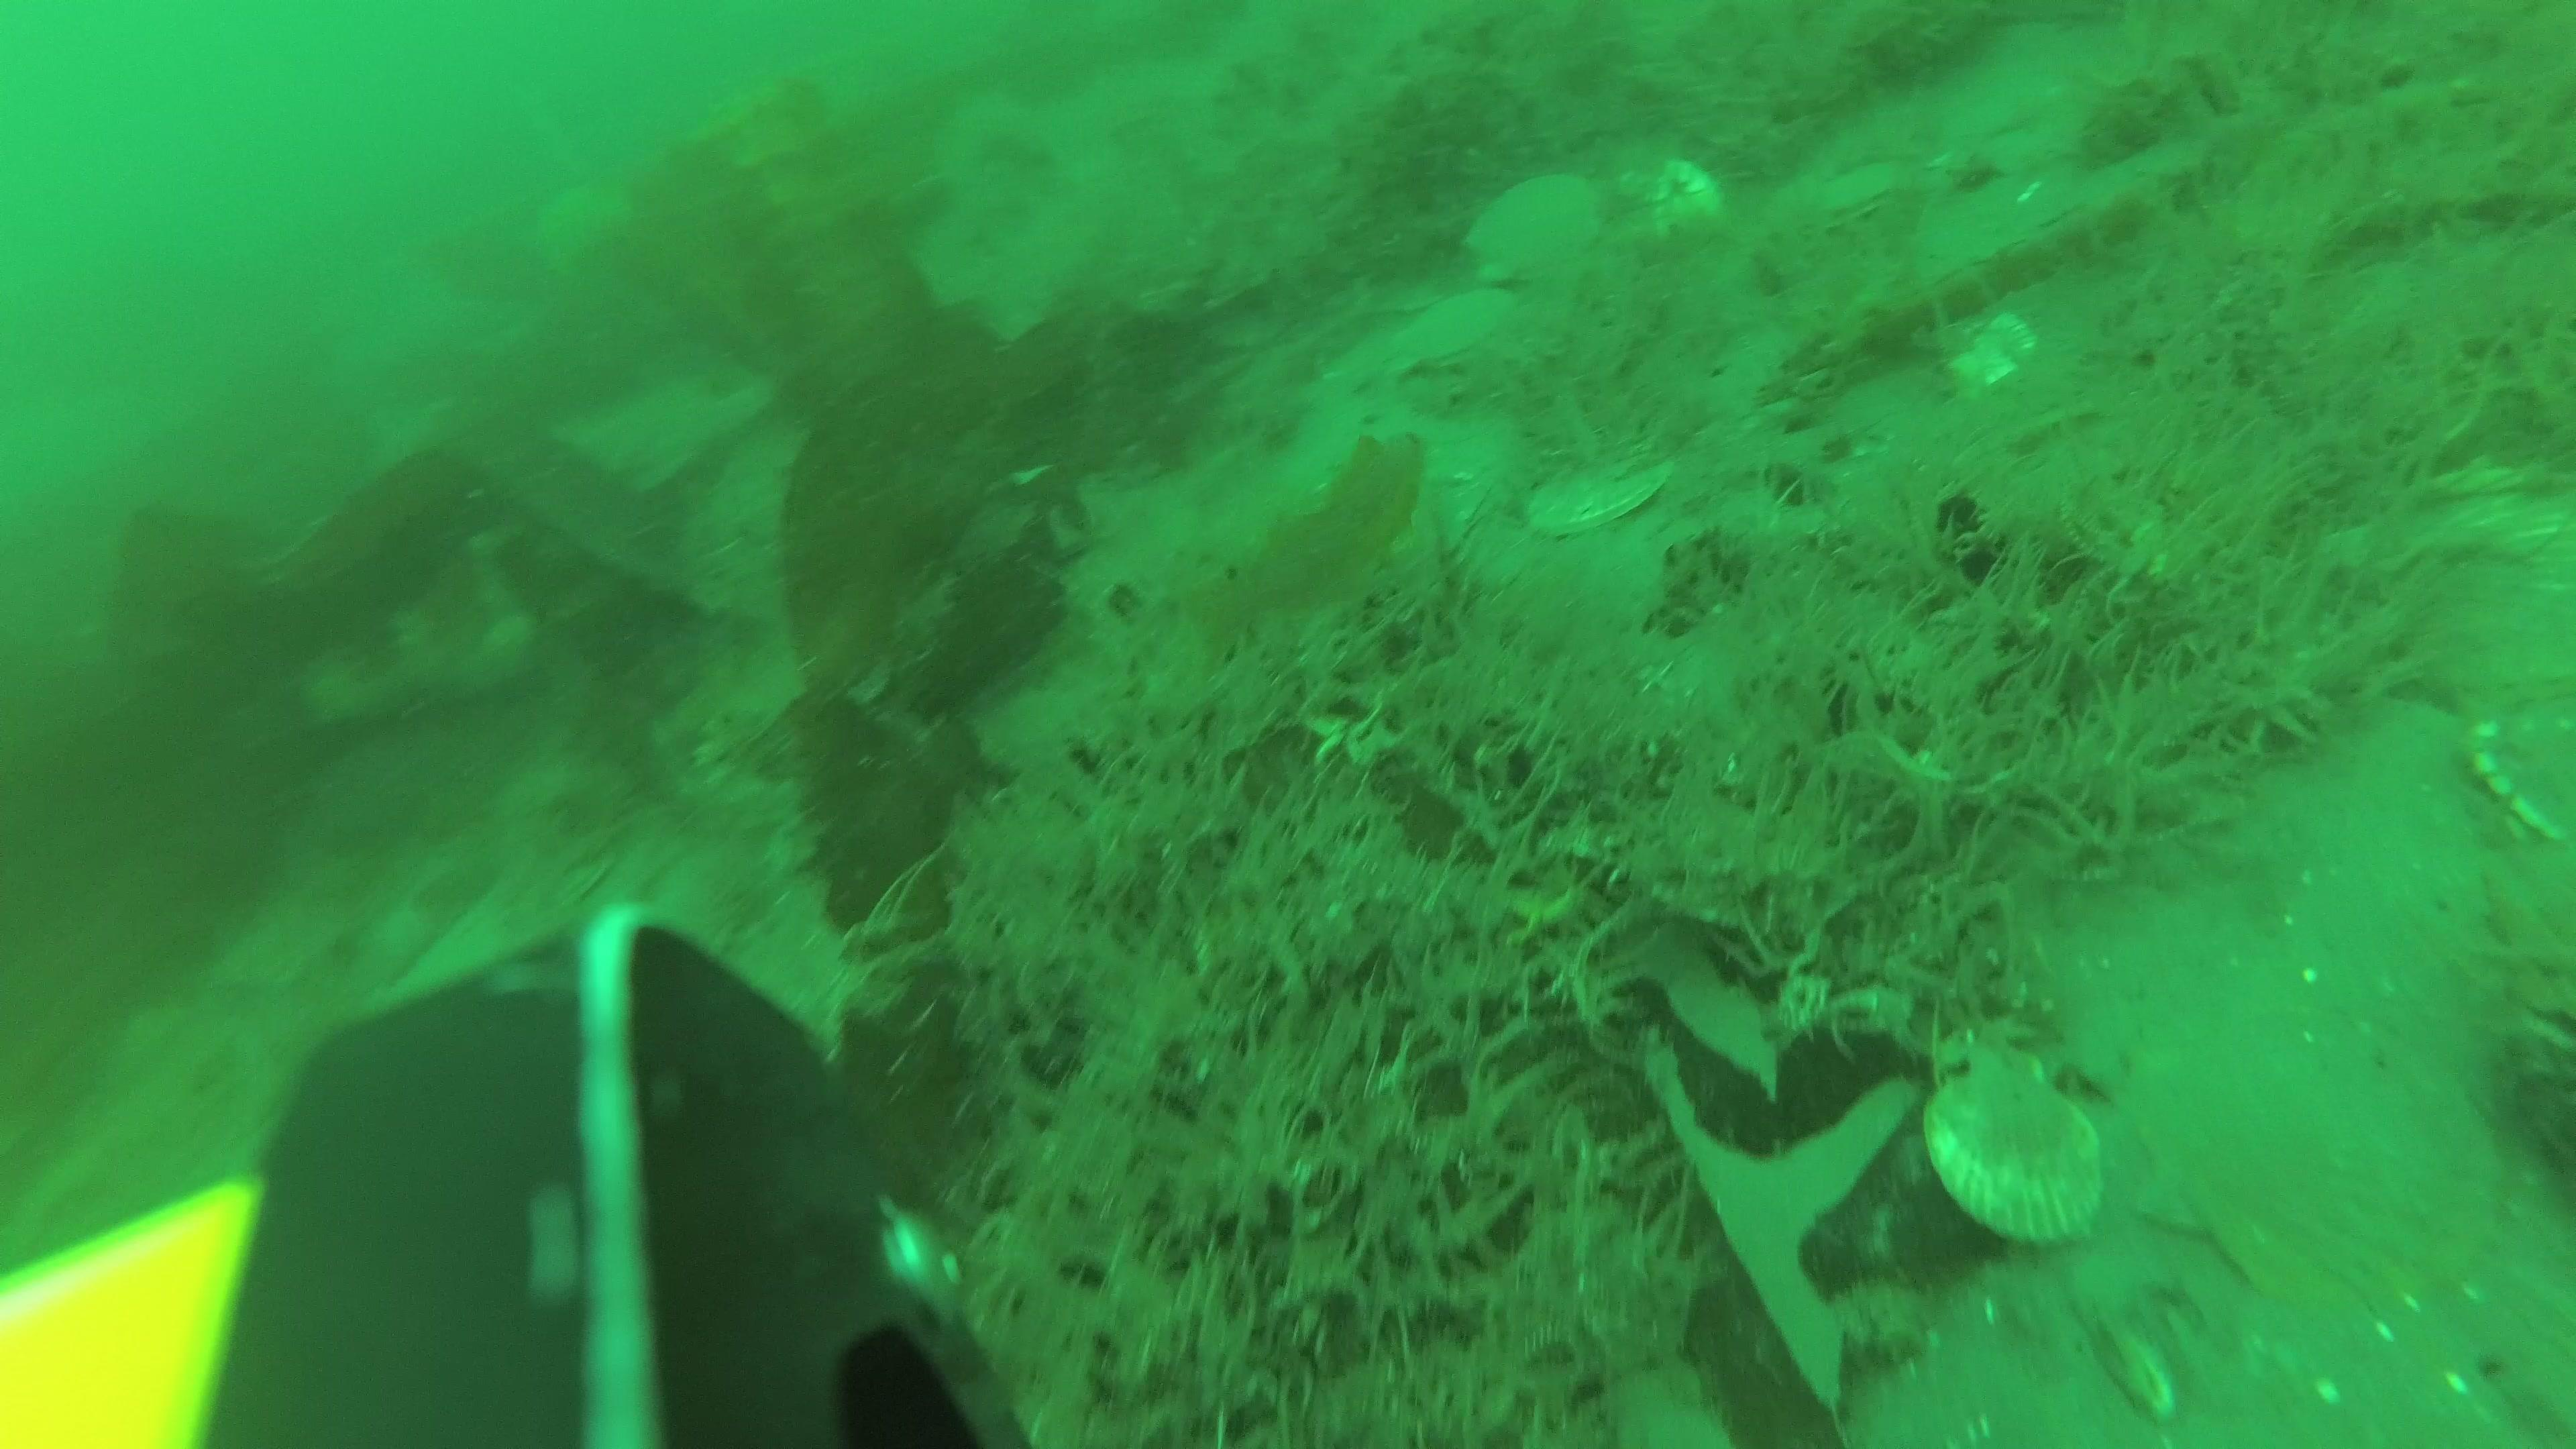scallop: (1916, 1054, 2098, 1240), (1522, 428, 1691, 525), (1470, 166, 1608, 274), (1932, 294, 2036, 389), (1398, 297, 1518, 370), (1821, 152, 1923, 225), (1647, 156, 1727, 246)
